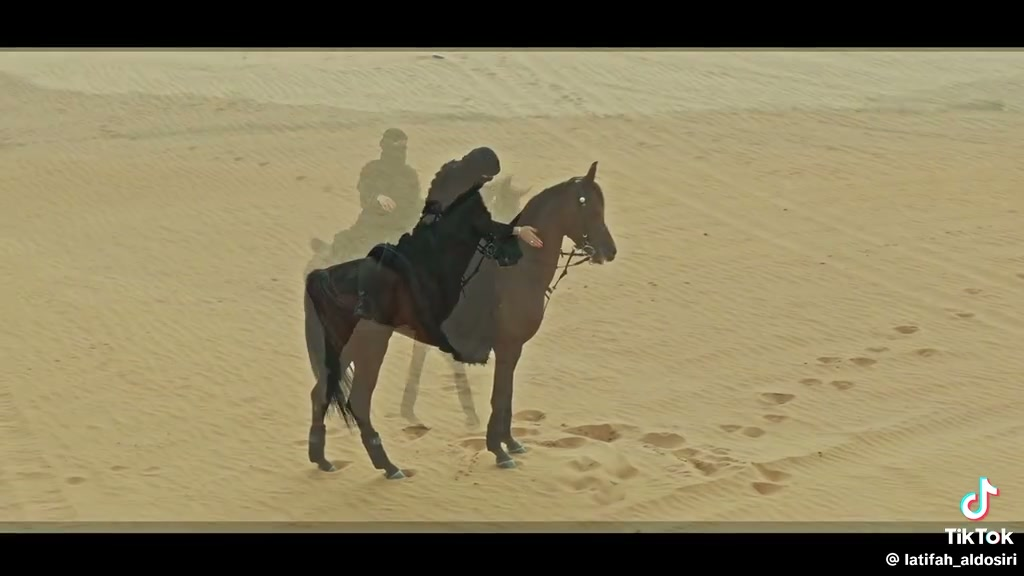animal_footprint: (400, 341, 429, 422), (672, 447, 745, 476), (564, 423, 632, 442), (751, 463, 790, 495), (640, 432, 684, 449), (719, 424, 765, 437), (759, 392, 795, 405), (513, 409, 546, 422), (402, 424, 429, 439), (944, 308, 975, 319), (827, 379, 854, 390), (893, 325, 920, 335), (849, 357, 877, 366), (829, 380, 854, 390), (913, 348, 939, 357), (762, 414, 787, 423), (816, 356, 842, 364), (798, 378, 821, 386), (865, 346, 889, 353), (963, 288, 982, 294)
